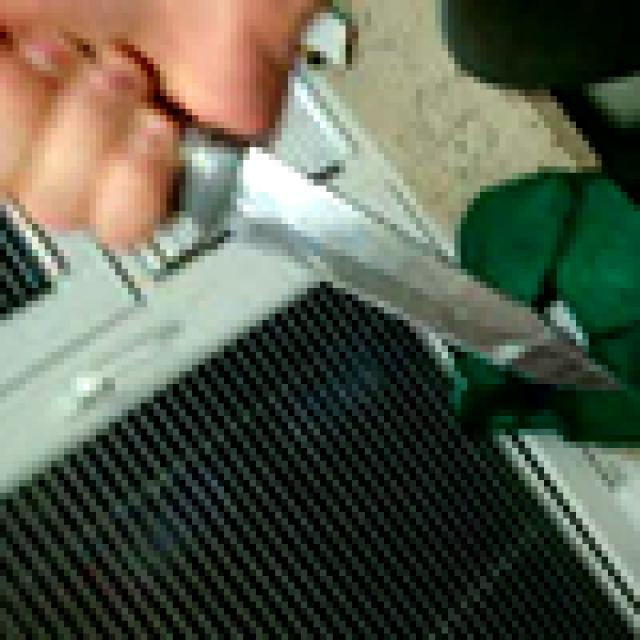Weapons: (177, 120, 624, 394)
